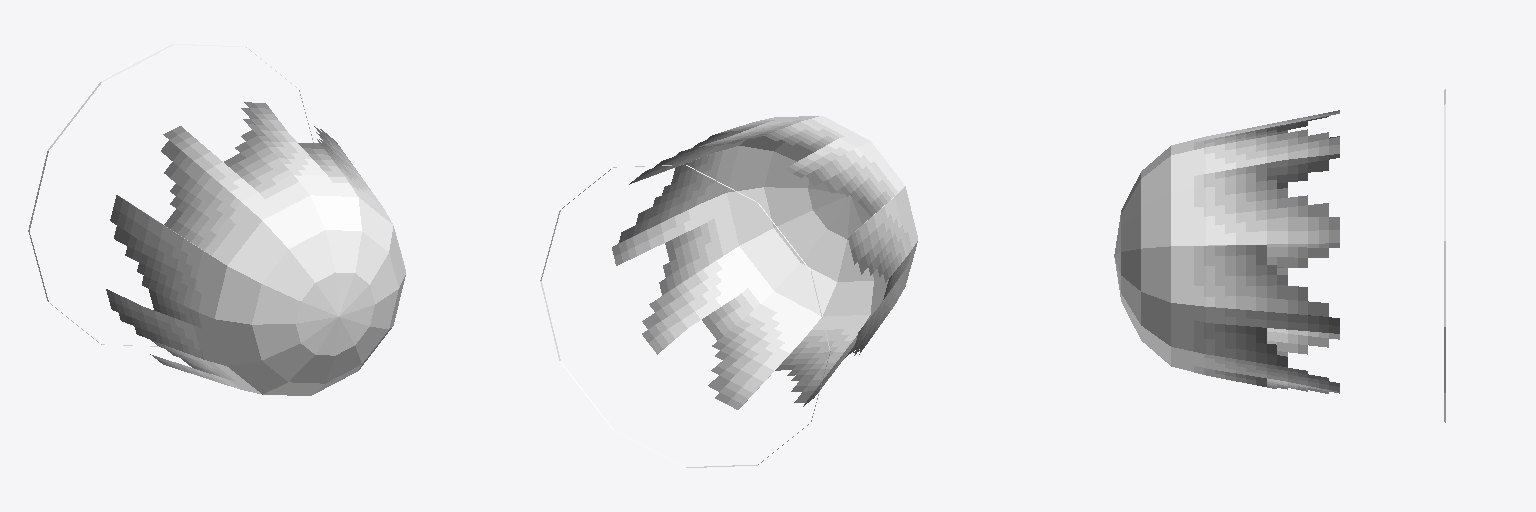
The picture shows the model from 3 angles: view 1: azimuth 30°, elevation 25°; view 2: azimuth 150°, elevation 25°; view 3: azimuth 270°, elevation 25°; orthographic projection.
Visible parts, largest first — view 1: polygon0; view 2: polygon0; view 3: polygon0.
Part boxes in pixels (x1,y1,x2,y2): polygon0: (28, 44, 405, 395); polygon0: (540, 116, 917, 467); polygon0: (1114, 89, 1445, 422).
Size of the model in its own units: 5.58 by 5.58 by 5.52.
Materials: 1 (1 with a texture image).